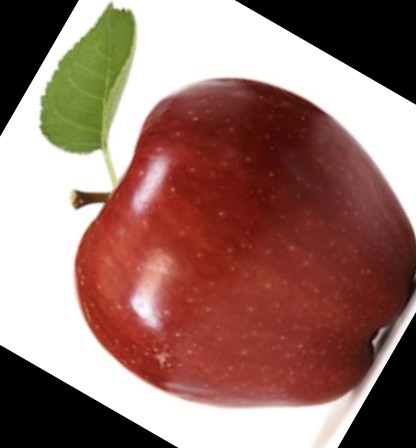fresh_apple: (72, 79, 416, 410)
